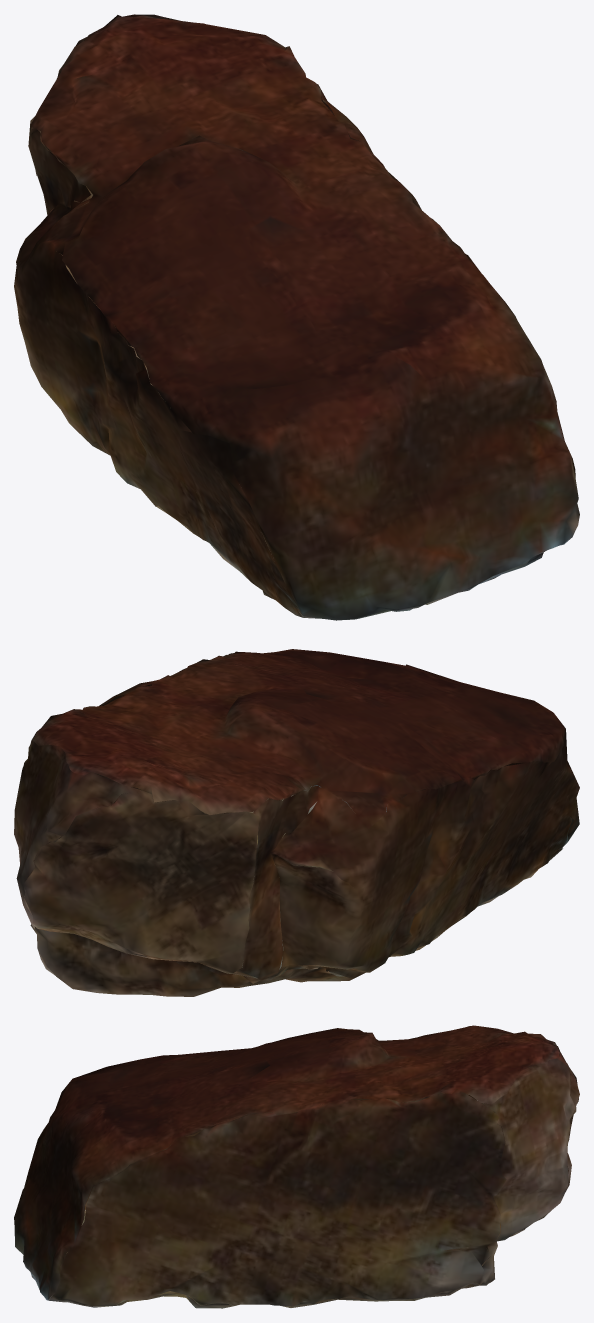
File: rock_07.glb
3 renders of one model, top to bottom at view 1: azimuth 30°, elevation 25°; view 2: azimuth 150°, elevation 25°; view 3: azimuth 270°, elevation 25°, orthographic. The views are drawn at different scales.
Visible parts, largest first — view 1: rock_07; view 2: rock_07; view 3: rock_07.
Part boxes in pixels (box(x1,y1,x2,y2)): rock_07: box(14, 14, 579, 620); rock_07: box(14, 649, 579, 996); rock_07: box(14, 1025, 579, 1308).
Bounding box in the file's own units: 0.1687 × 0.1429 × 0.3205.
1 material, 1 textured.
